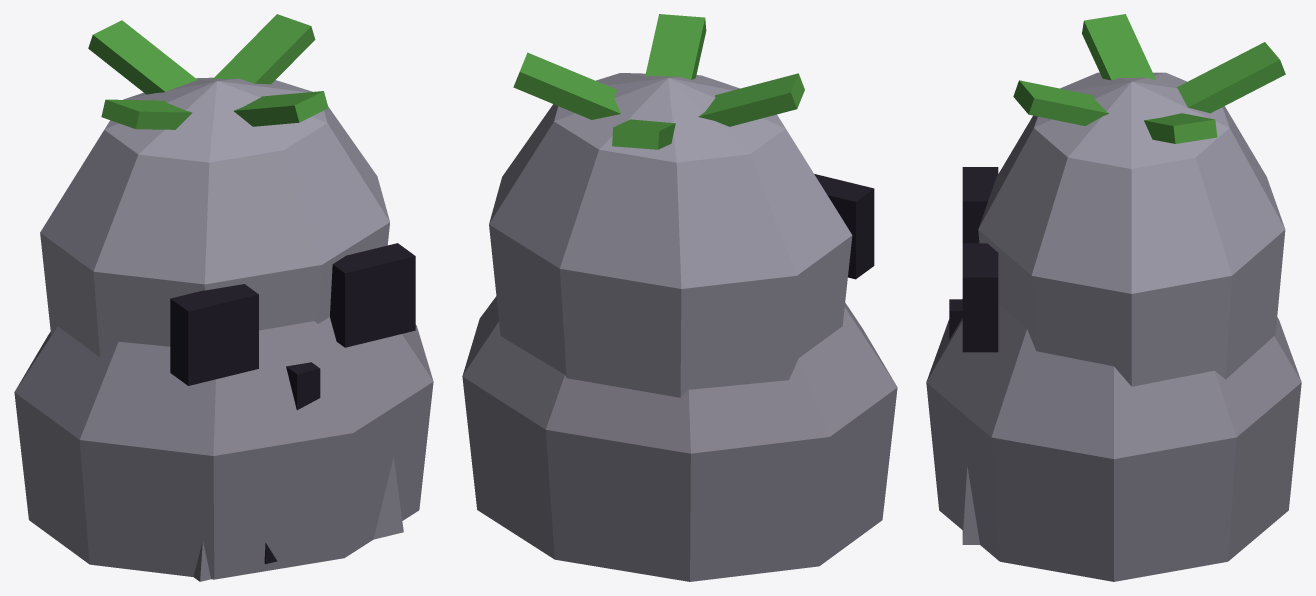
File: env_r13_skull_rock.glb
3 renders of one model, left to right at view 1: azimuth 30°, elevation 25°; view 2: azimuth 150°, elevation 25°; view 3: azimuth 270°, elevation 25°, orthographic. The views are drawn at different scales.
Parts seen in each view (by area): view 1: env_r13_skull_rock; view 2: env_r13_skull_rock; view 3: env_r13_skull_rock.
Part boxes in pixels (box(x1,y1,x2,y2)): env_r13_skull_rock: box(14, 14, 433, 581); env_r13_skull_rock: box(462, 14, 897, 581); env_r13_skull_rock: box(926, 14, 1301, 581).
Bounding box in the file's own units: 5 × 5.5 × 4.4.
Materials: 1 (1 with a texture image).
